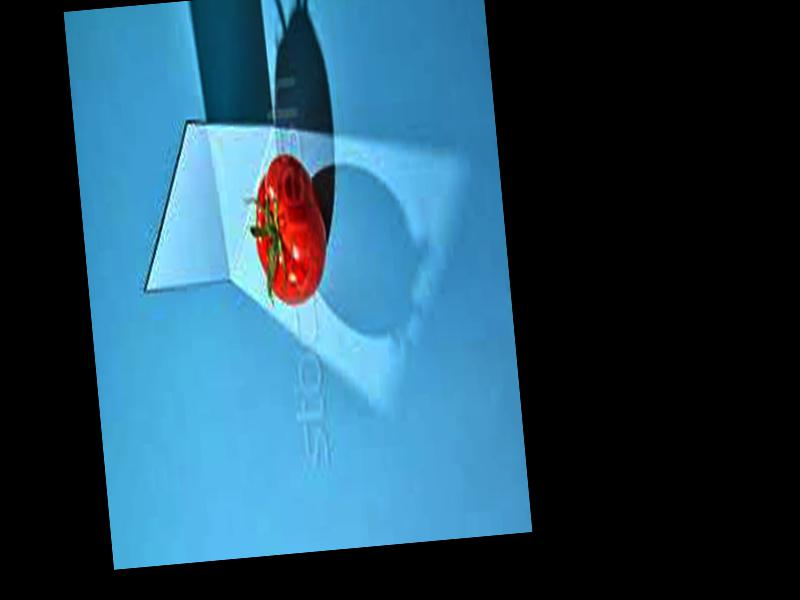Tomato: (248, 151, 332, 307)
